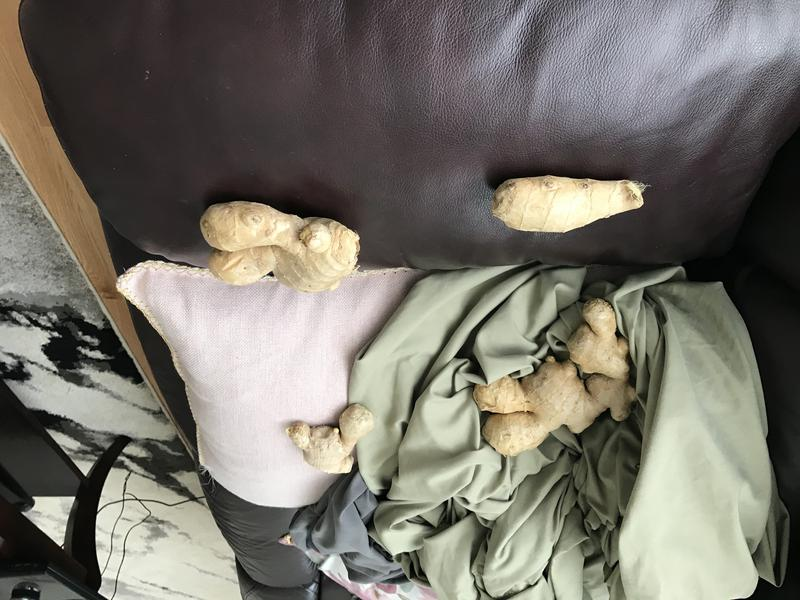ginger: (462, 290, 651, 458), (189, 188, 368, 304), (487, 163, 661, 240), (279, 396, 387, 482)
